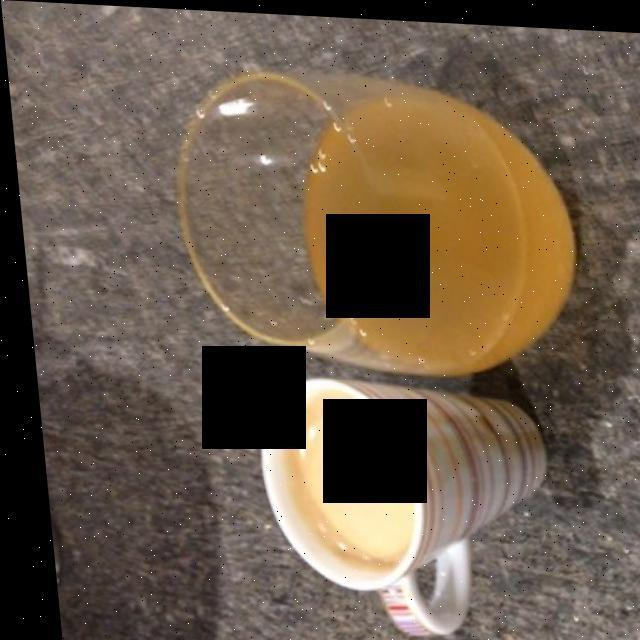drink: (302, 85, 556, 366)
espresso: (285, 395, 405, 559)
